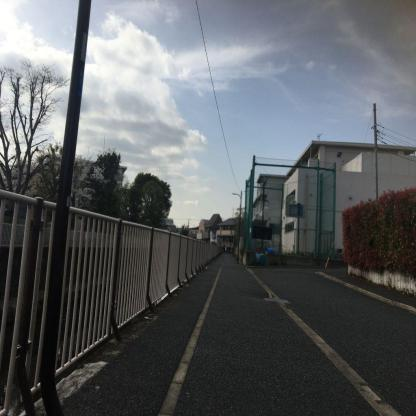Someiyoshino: (0, 146, 114, 213)
